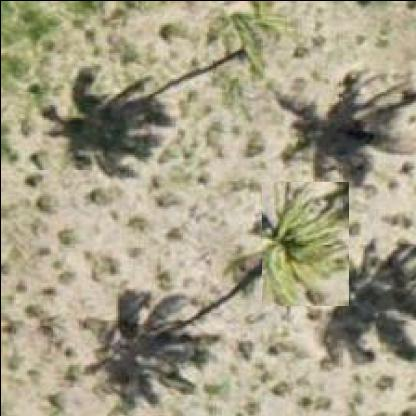coconut tree: (260, 181, 348, 306)
